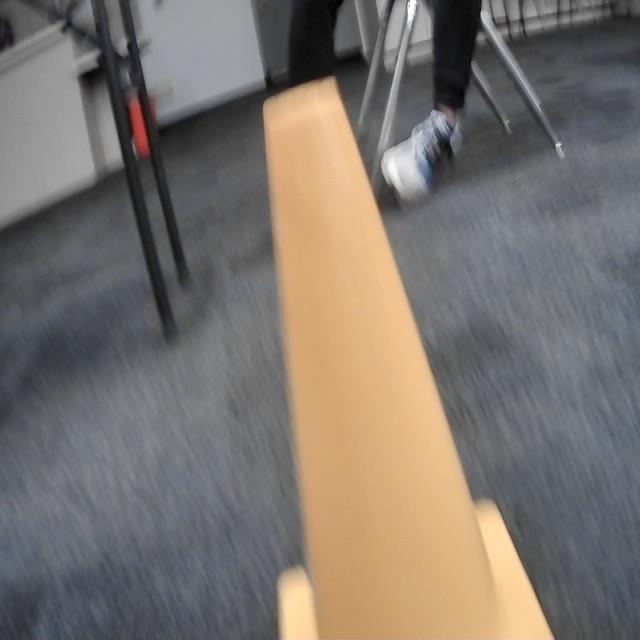cone: (260, 73, 553, 640)
